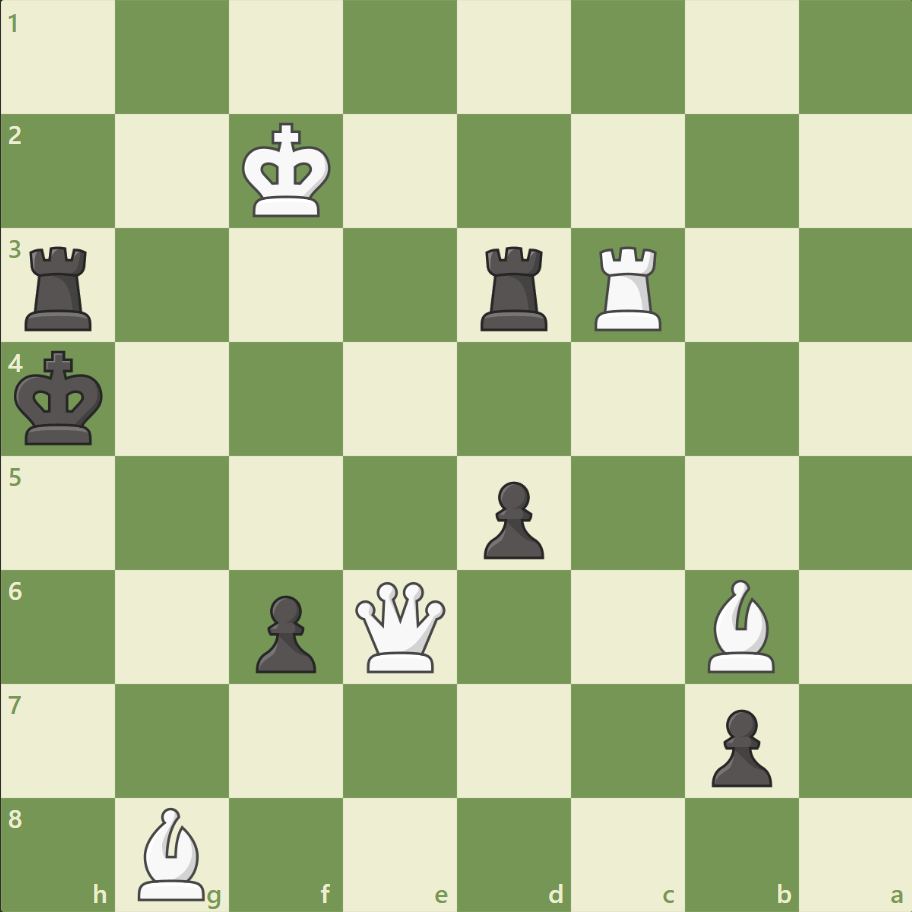B: (131, 801, 215, 904), (698, 574, 782, 676)
K: (238, 117, 338, 225)
Q: (351, 576, 450, 676)
R: (587, 239, 670, 336)
k: (11, 344, 111, 452)
p: (701, 700, 776, 791), (247, 586, 322, 677), (474, 473, 549, 564)
r: (473, 239, 556, 336), (19, 239, 102, 336)
